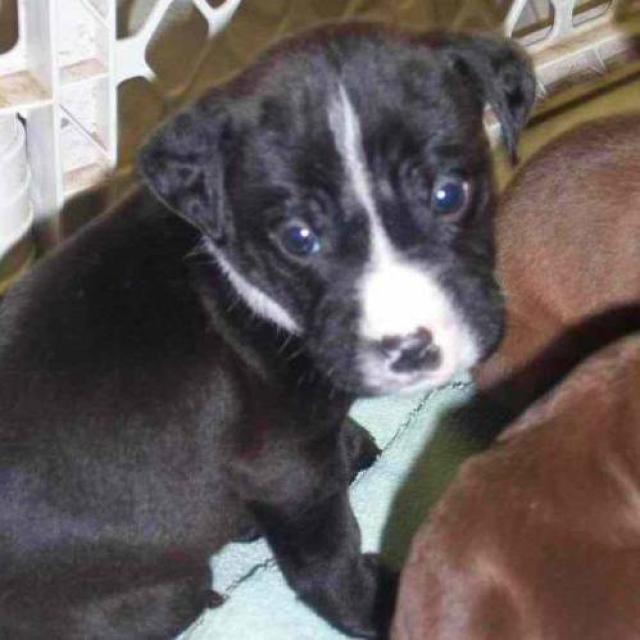dog: (0, 18, 543, 639)
